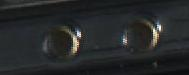joints: (37, 19, 83, 63), (120, 13, 162, 54)
